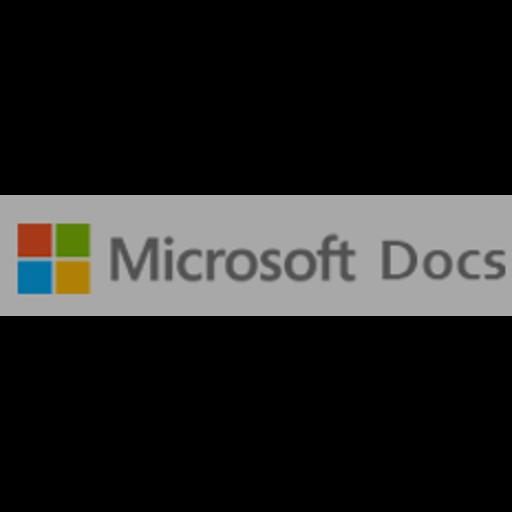Outlook: (0, 195, 512, 316)
